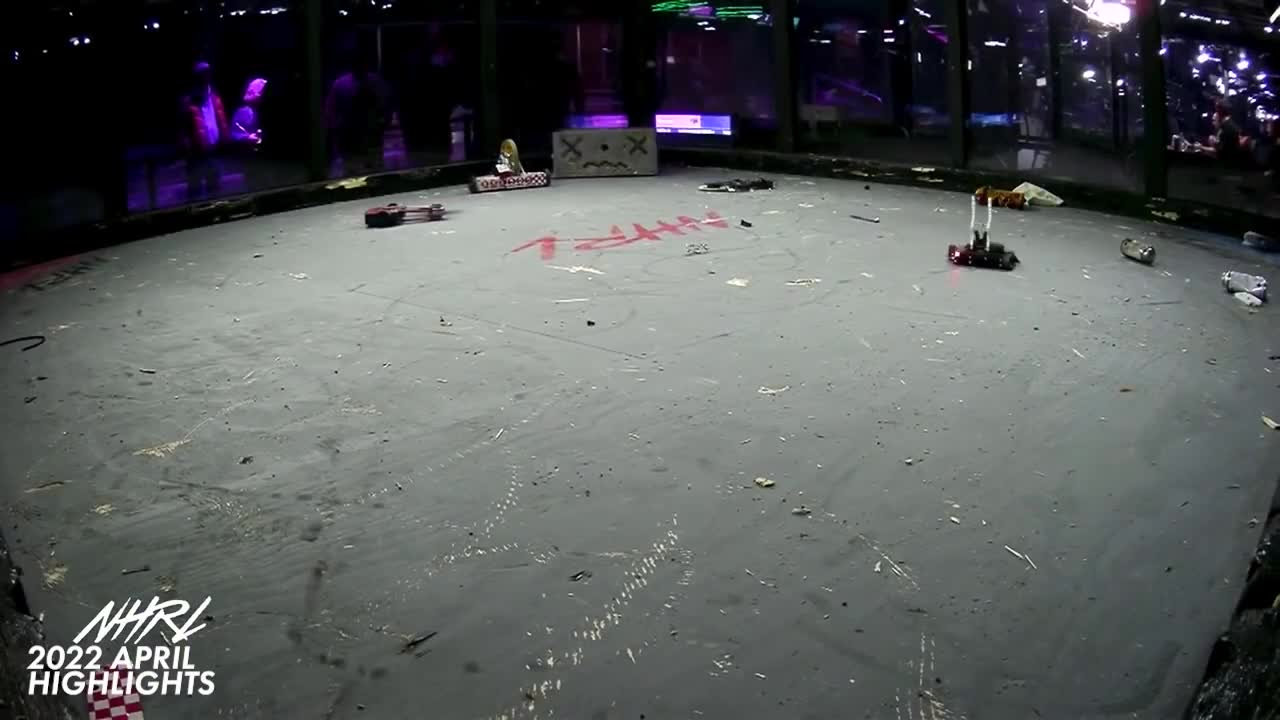belt: (0, 333, 48, 355)
combatbot: (944, 238, 1021, 271), (361, 201, 448, 228), (1220, 268, 1275, 310), (977, 183, 1063, 209), (468, 167, 552, 193), (1001, 182, 1063, 208), (700, 173, 775, 192), (1118, 237, 1158, 266), (1238, 228, 1280, 253)
housebot: (552, 130, 660, 178)
